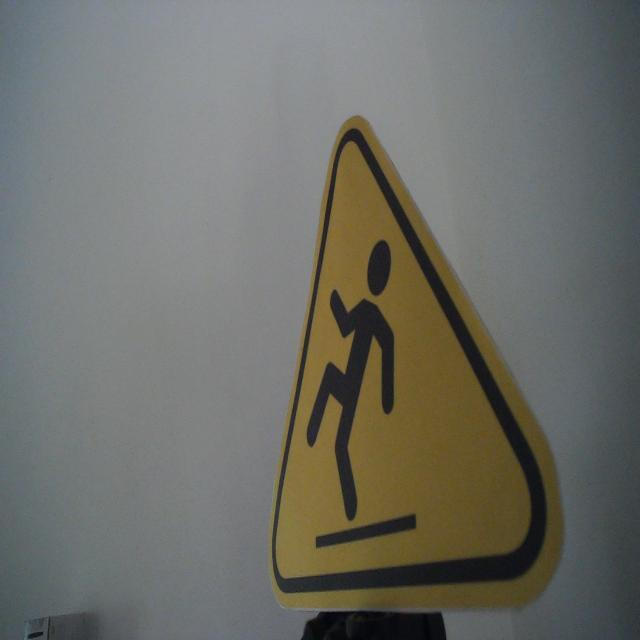slippery_sign: (266, 114, 566, 616)
